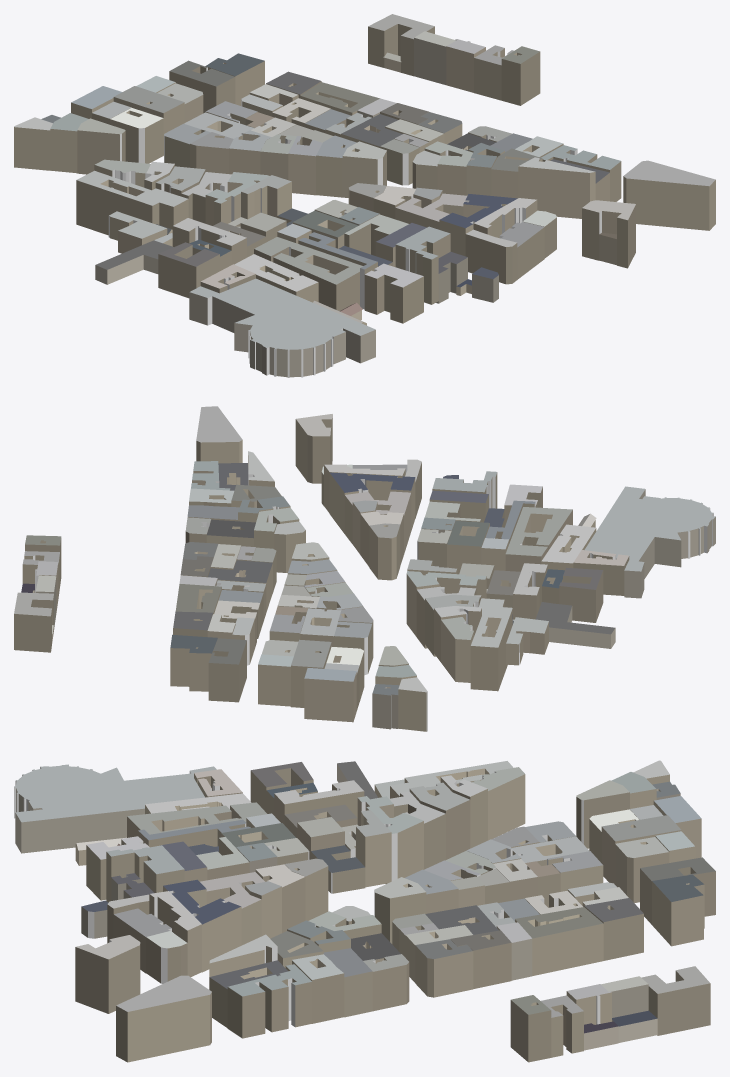
3 views of the same model, one above another, from view 1: azimuth 30°, elevation 25°; view 2: azimuth 150°, elevation 25°; view 3: azimuth 270°, elevation 25° (orthographic). The views are drawn at different scales.
Visible parts, largest first — view 1: tuile; view 2: tuile; view 3: tuile.
Boxes of the visible parts, x1,y1,x2,y2 form: tuile: (14, 14, 715, 377); tuile: (14, 406, 715, 731); tuile: (14, 760, 715, 1062).
Size of the model in its own units: 287 by 31.25 by 295.
